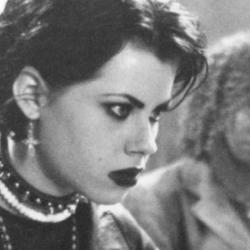face: (2, 1, 220, 209)
